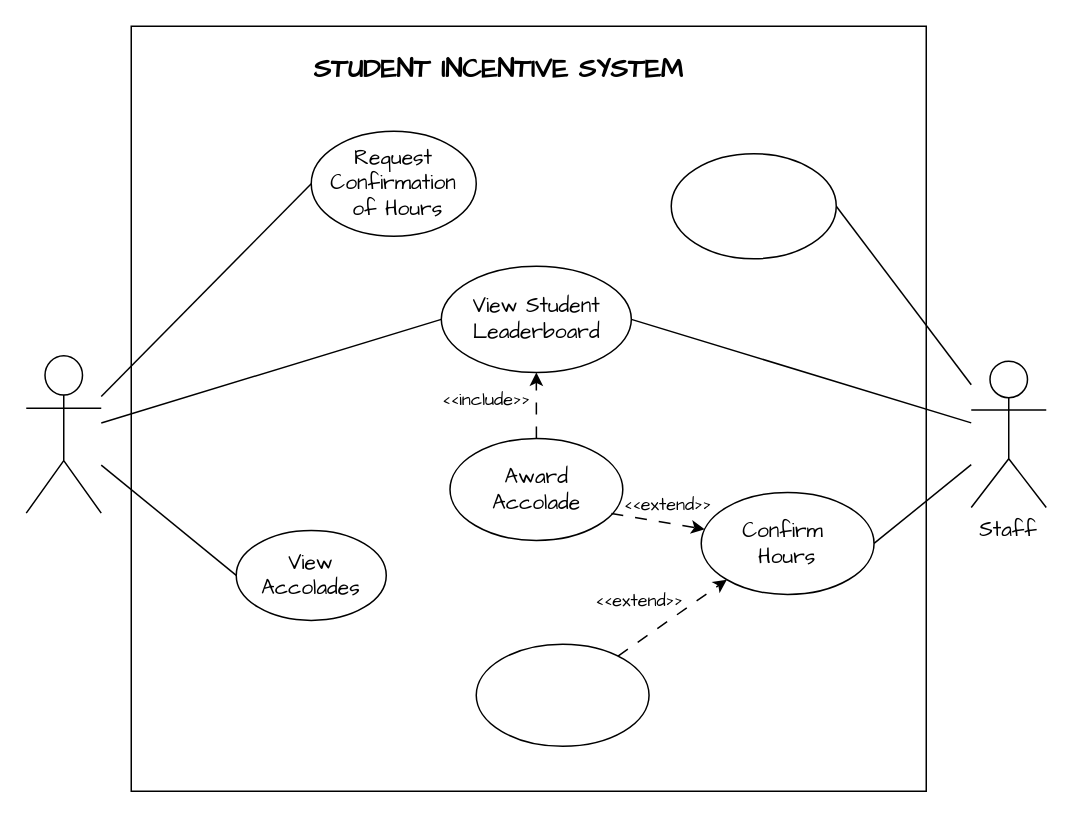
The diagram is 1073 pixels wide and 818 high, and some of its shapes have lost their labels. Here are the shapes that lost their labels. From the top down, the box of each, then its label:
(670, 152, 836, 259): Log Hours for Student
(25, 354, 101, 513): Student
(475, 643, 649, 746): Reject Confirmation
